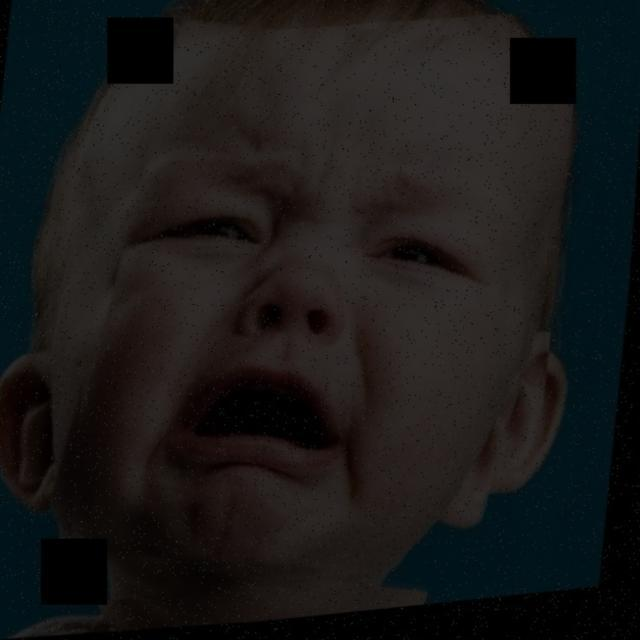Sad: (35, 102, 570, 544)
